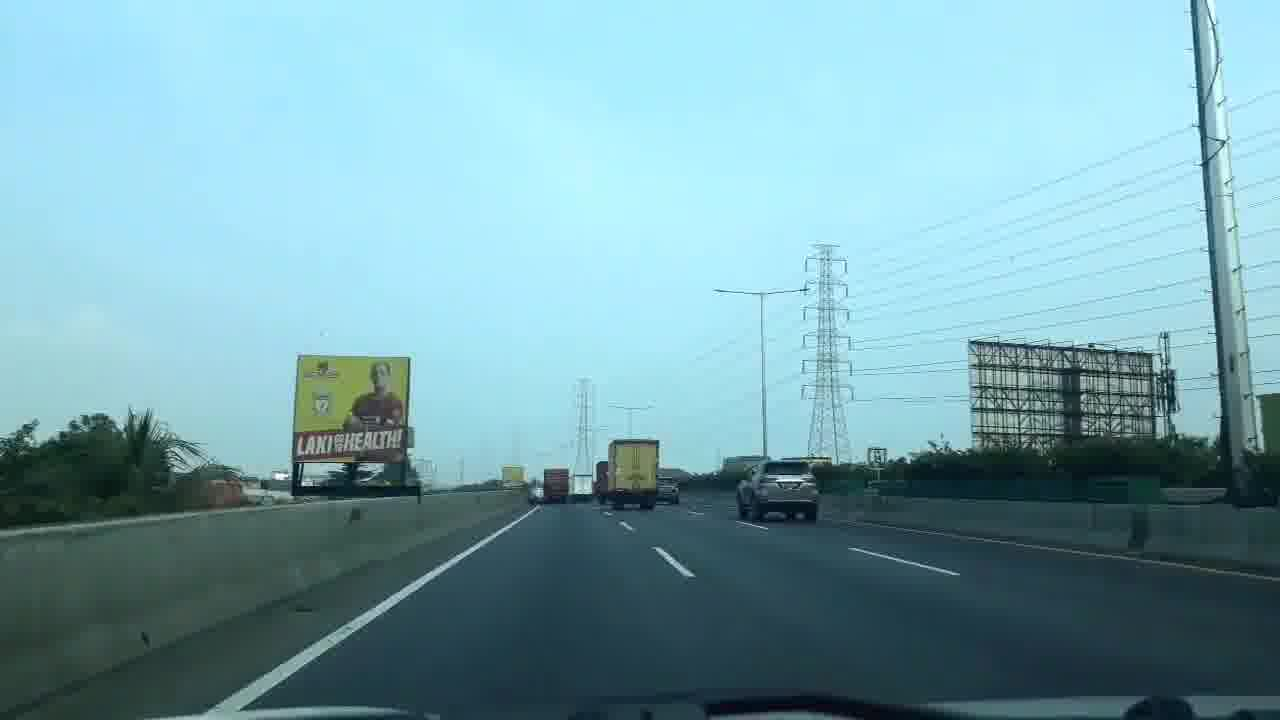plate_positive: (781, 483, 799, 489)
